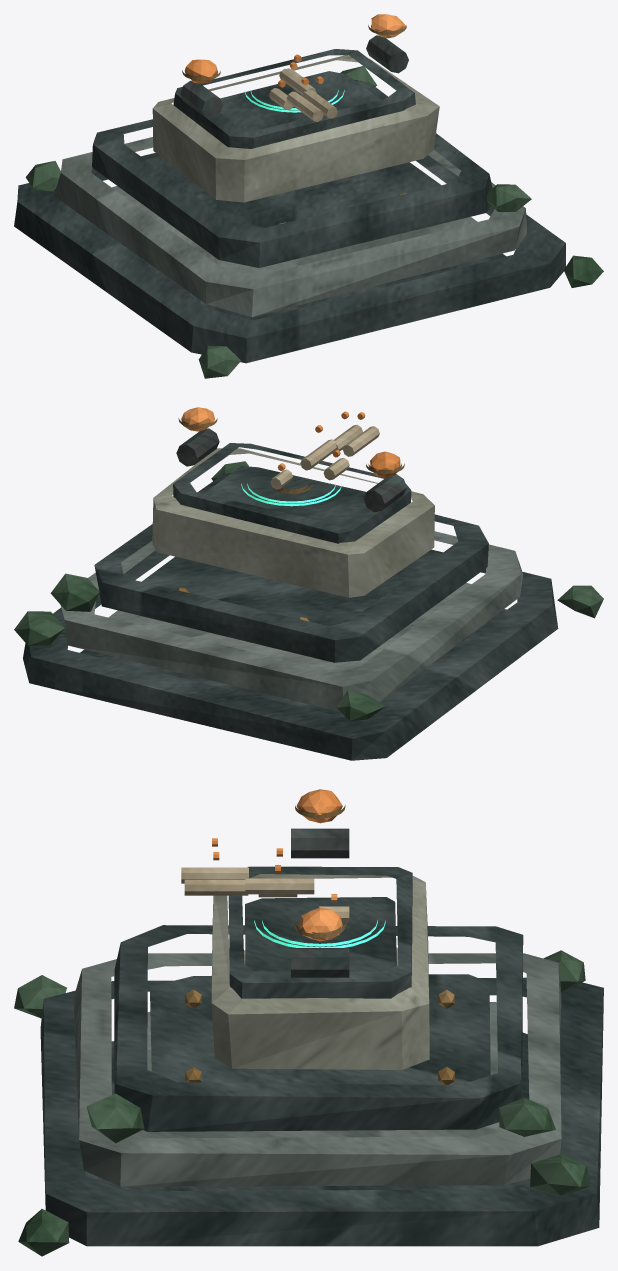
Rendered from 0462_altar_12.glb.
3 views of the same model, one above another, from view 1: azimuth 30°, elevation 25°; view 2: azimuth 150°, elevation 25°; view 3: azimuth 270°, elevation 25° (orthographic). The views are drawn at different scales.
Visible parts, largest first — view 1: stone_dark, stone, stone_light, moss, iron, bone, amber; view 2: stone_dark, stone, stone_light, moss, bone, iron, amber, brass, glow; view 3: stone_dark, stone, stone_light, moss, iron, bone, amber, brass, glow.
Part boxes in pixels (x1=…): stone_dark: x1=14, y1=49, x2=565, y2=363; stone: x1=54, y1=137, x2=526, y2=317; stone_light: x1=152, y1=55, x2=439, y2=202; moss: x1=25, y1=66, x2=603, y2=378; iron: x1=180, y1=35, x2=408, y2=118; bone: x1=269, y1=68, x2=337, y2=121; amber: x1=184, y1=14, x2=405, y2=87; stone_dark: x1=23, y1=443, x2=558, y2=760; stone: x1=60, y1=531, x2=523, y2=711; stone_light: x1=152, y1=448, x2=434, y2=597; moss: x1=14, y1=461, x2=603, y2=720; bone: x1=270, y1=424, x2=379, y2=489; iron: x1=176, y1=428, x2=406, y2=512; amber: x1=181, y1=407, x2=400, y2=477; brass: x1=178, y1=418, x2=404, y2=621; glow: x1=241, y1=483, x2=341, y2=506; stone_dark: x1=40, y1=866, x2=603, y2=1246; stone: x1=73, y1=953, x2=561, y2=1186; stone_light: x1=211, y1=874, x2=429, y2=1069; moss: x1=14, y1=950, x2=590, y2=1256; iron: x1=291, y1=828, x2=349, y2=977; bone: x1=181, y1=867, x2=349, y2=922; amber: x1=212, y1=789, x2=342, y2=941; brass: x1=185, y1=805, x2=454, y2=1084; glow: x1=254, y1=920, x2=385, y2=947.
Bounding box in the file's own units: 2.47 × 1.29 × 2.42.
Materials: 9 (9 with a texture image).
